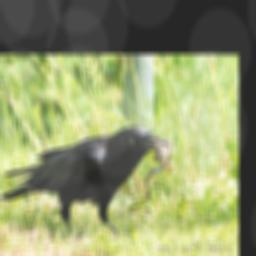Crow: (2, 125, 173, 234)
